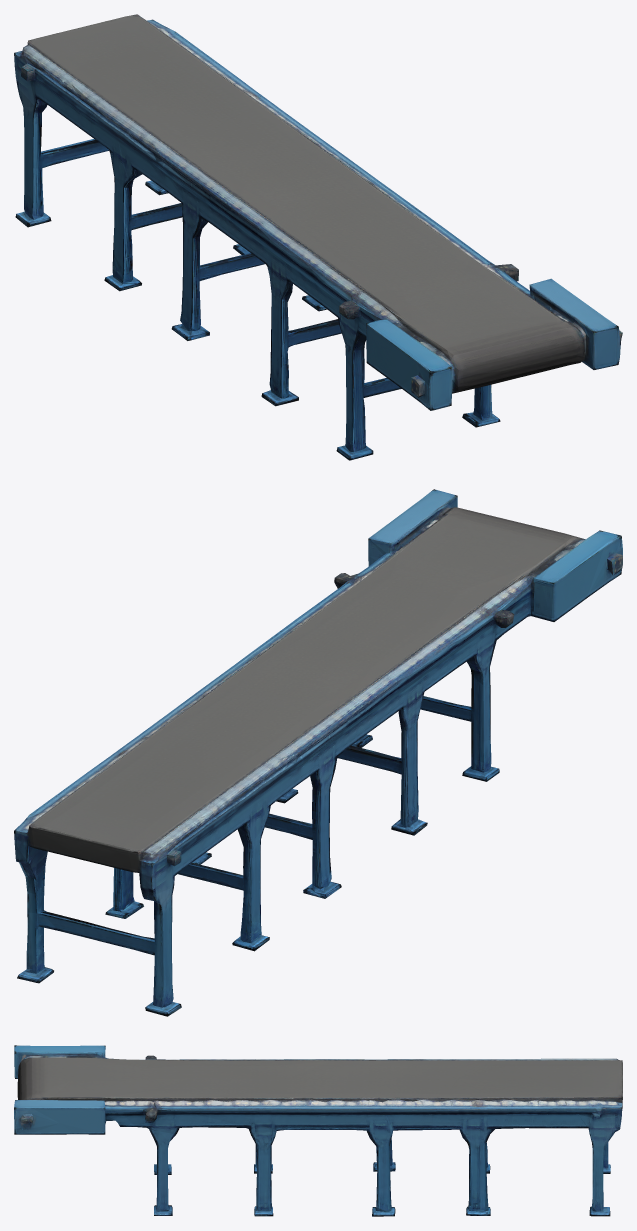
Rendered from conveyor.gltf.
3 renders of one model, top to bottom at view 1: azimuth 30°, elevation 25°; view 2: azimuth 150°, elevation 25°; view 3: azimuth 270°, elevation 25°, orthographic. The views are drawn at different scales.
Visible parts, largest first — view 1: world; view 2: world; view 3: world.
Boxes of the visible parts, box(x1,y1,x2,y2) form: world: box(14, 14, 622, 460); world: box(14, 489, 622, 1016); world: box(14, 1045, 622, 1216).
Bounding box in the file's own units: 0.2647 × 0.2092 × 0.9986.
1 material, 1 textured.
